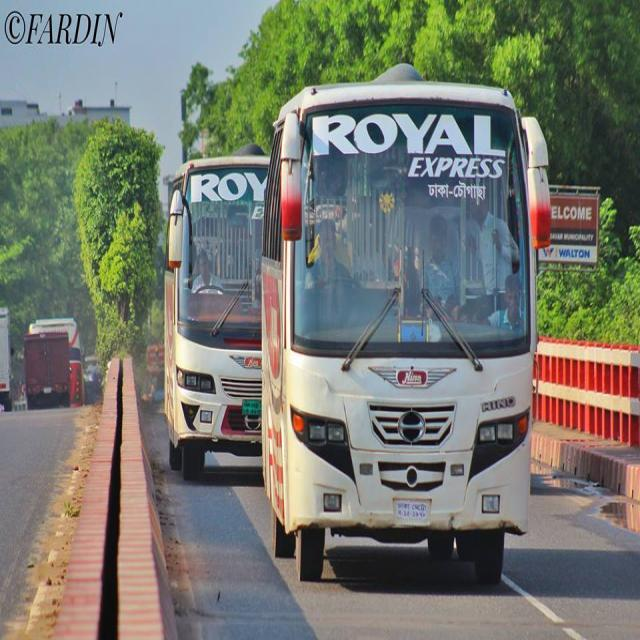bus: (260, 58, 555, 587), (163, 140, 265, 483)
